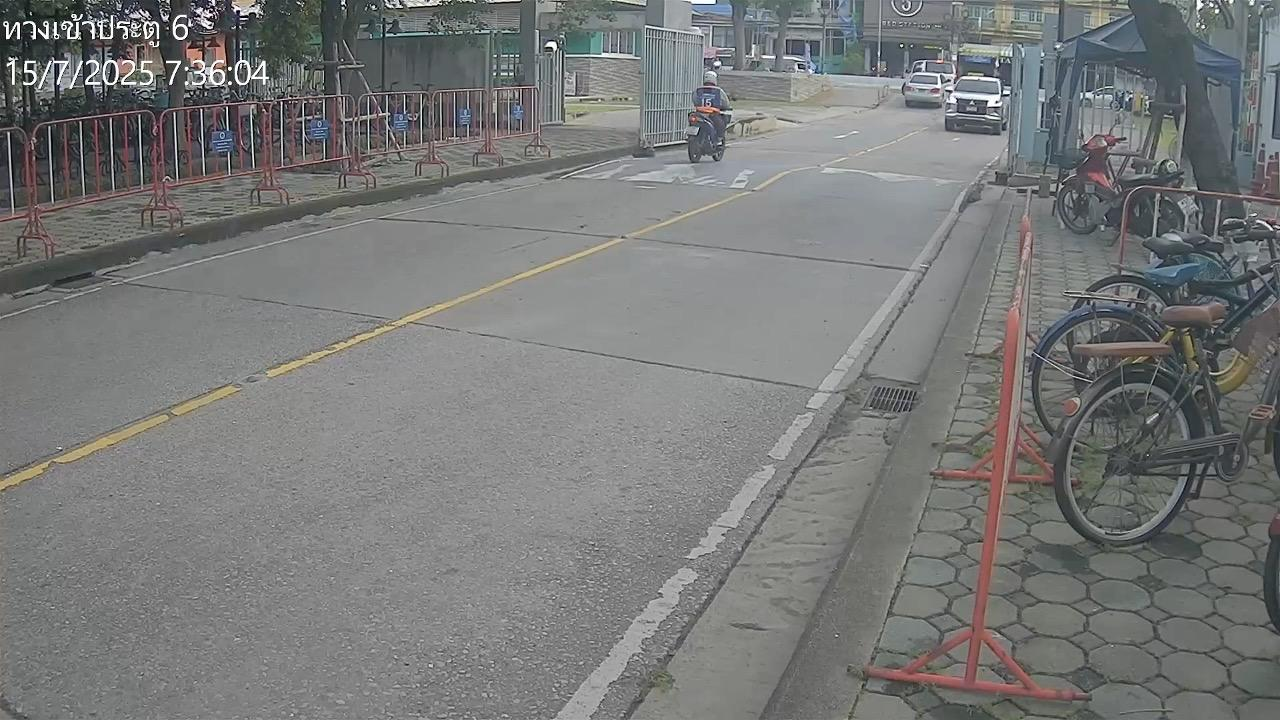With-Helmet: (703, 71, 717, 86)
